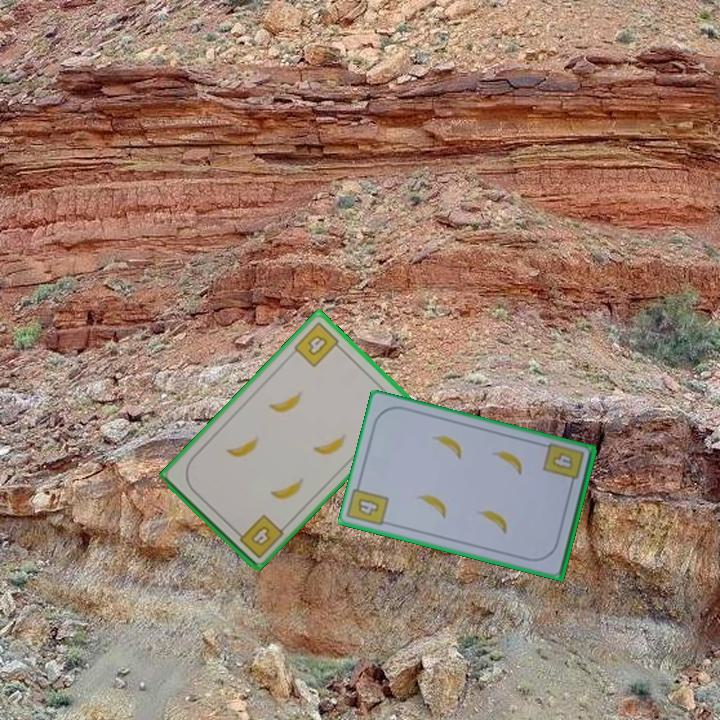4b: (290, 318, 346, 370), (231, 510, 287, 561), (540, 440, 587, 491), (354, 495, 382, 519)
